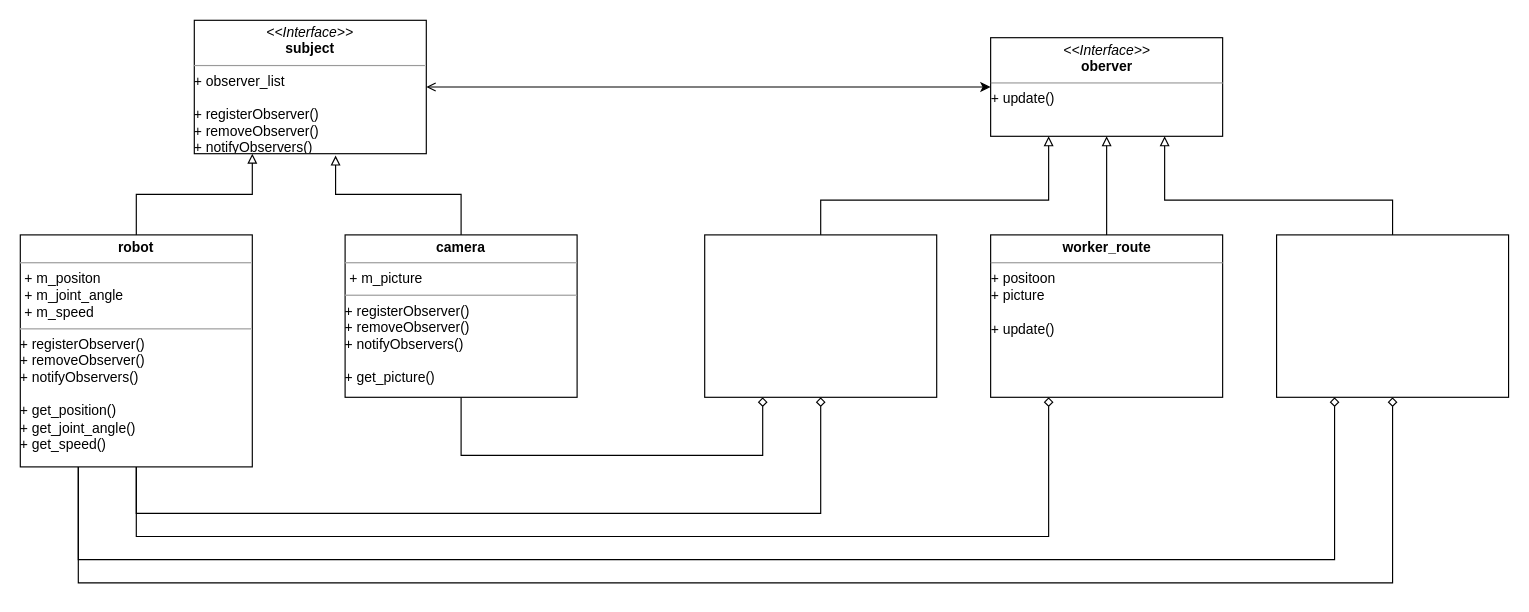
The diagram is 1529 pixels wide and 612 high, and some of its shapes have lost their labels. Each missing label, with the box of its shape:
ui_window + speed + picture + update() + display(): (1275, 234, 1509, 397)
worker_orientate + positon + joint_angle + update(): (704, 234, 937, 397)
